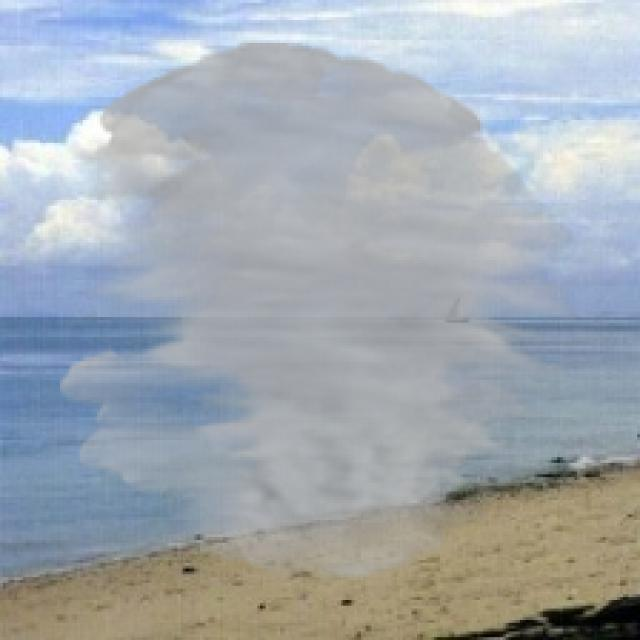Smoke: (60, 43, 577, 580)
